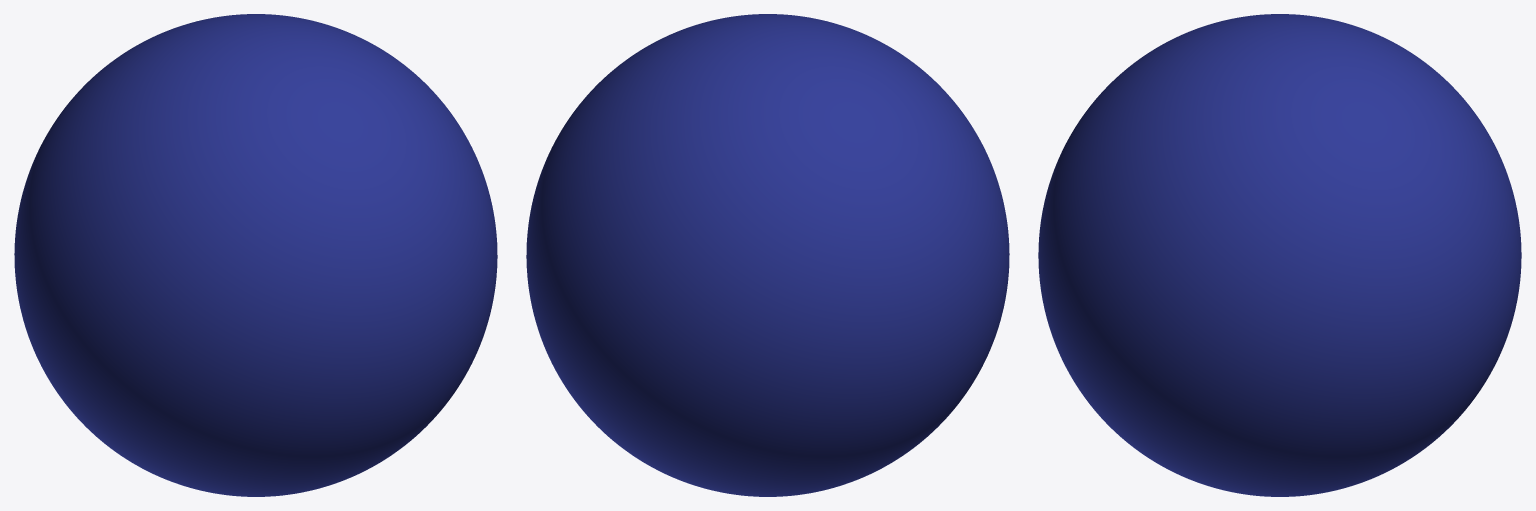
The model's file is blue_ball.obj.
The picture shows the model from 3 angles, left to right: view 1: azimuth 30°, elevation 25°; view 2: azimuth 150°, elevation 25°; view 3: azimuth 270°, elevation 25°; orthographic projection.
Visible parts, largest first — view 1: Corpo1; view 2: Corpo1; view 3: Corpo1.
Part boxes in pixels (x1=…): Corpo1: x1=14, y1=14, x2=497, y2=496; Corpo1: x1=526, y1=14, x2=1009, y2=496; Corpo1: x1=1038, y1=14, x2=1521, y2=496.
Size of the model in its own units: 25 by 24.99 by 25.
